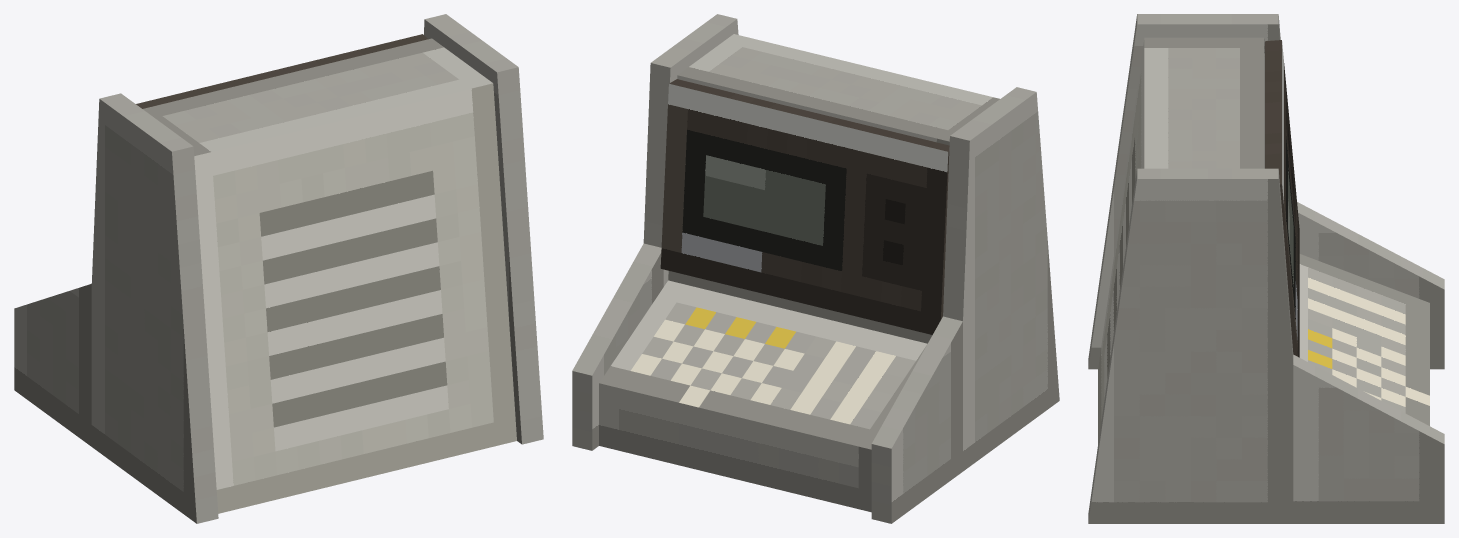
The model's file is era3_uniscope_double_sided.obj.
The picture shows the model from 3 angles, left to right: view 1: azimuth 30°, elevation 25°; view 2: azimuth 150°, elevation 25°; view 3: azimuth 270°, elevation 25°; orthographic projection. The views are drawn at different scales.
Visible parts, largest first — view 1: era3_uniscope; view 2: era3_uniscope; view 3: era3_uniscope.
Boxes of the visible parts, bbox=[...] form: era3_uniscope: bbox=[14, 14, 543, 523]; era3_uniscope: bbox=[572, 14, 1059, 523]; era3_uniscope: bbox=[1088, 14, 1444, 523].
Size of the model in its own units: 1 by 0.975 by 0.9125.
